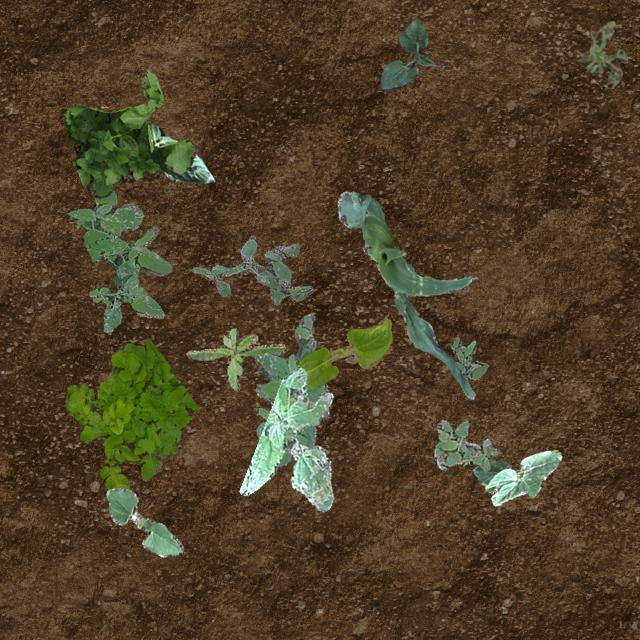crop: (336, 190, 474, 398), (296, 318, 392, 387), (104, 486, 182, 556), (472, 448, 560, 504), (378, 16, 436, 90), (148, 122, 214, 182)
weed: (64, 338, 198, 490), (59, 70, 194, 198), (66, 188, 172, 332), (238, 366, 332, 510), (252, 312, 328, 466), (188, 234, 312, 304), (186, 328, 286, 390), (576, 19, 628, 88), (432, 418, 497, 471), (450, 336, 488, 380)
